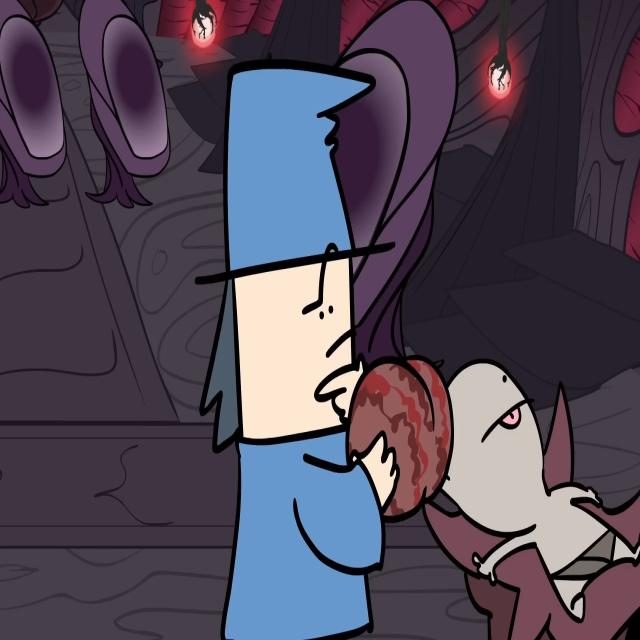Josh: (192, 56, 400, 640)
